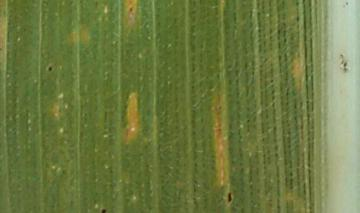tarspot: (126, 3, 135, 15), (226, 190, 233, 205), (46, 64, 54, 76), (98, 206, 109, 213)
